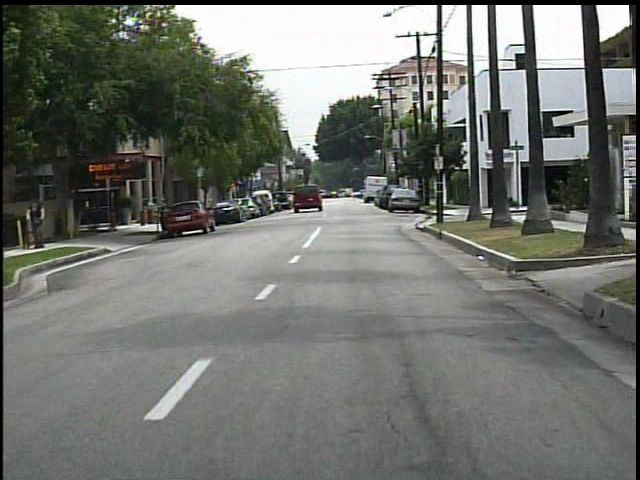person: (27, 196, 53, 251)
